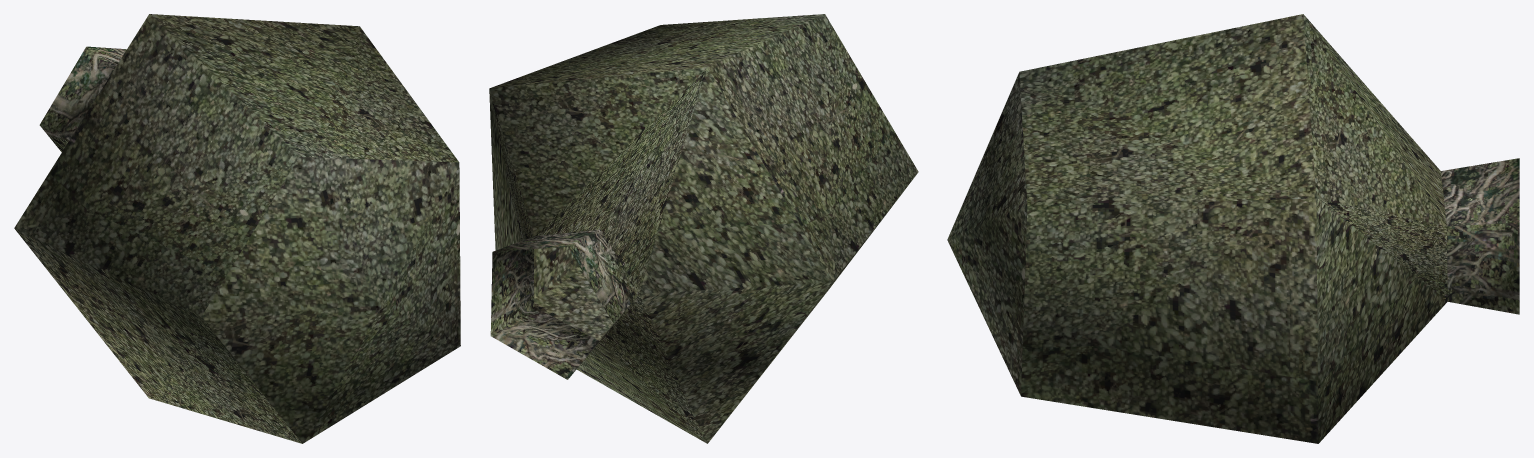
The model's file is foliage_hedge_gumdrop_1_LOD3.obj.
The picture shows the model from 3 angles, left to right: view 1: azimuth 30°, elevation 25°; view 2: azimuth 150°, elevation 25°; view 3: azimuth 270°, elevation 25°; orthographic projection. The views are drawn at different scales.
Parts seen in each view (by area): view 1: mtl_hedges_noalpha; view 2: mtl_hedges_noalpha; view 3: mtl_hedges_noalpha.
Boxes of the visible parts, x1,y1,x2,y2 form: mtl_hedges_noalpha: (14, 14, 460, 443); mtl_hedges_noalpha: (489, 14, 918, 443); mtl_hedges_noalpha: (947, 14, 1519, 443).
Size of the model in its own units: 97.58 by 103 by 132.
